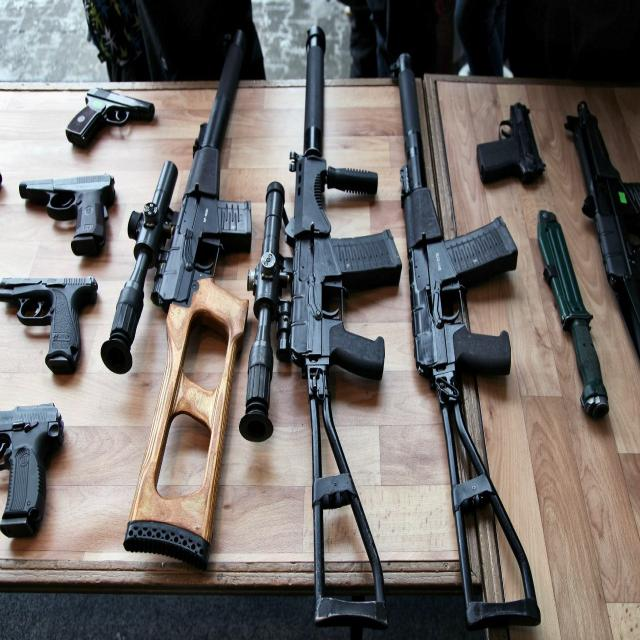firearm: (241, 26, 401, 628), (390, 49, 542, 627), (100, 29, 252, 566)
knife: (536, 208, 610, 418)
pistol: (0, 276, 101, 377), (0, 404, 66, 538), (19, 177, 116, 254), (475, 104, 547, 186), (66, 87, 155, 149)
